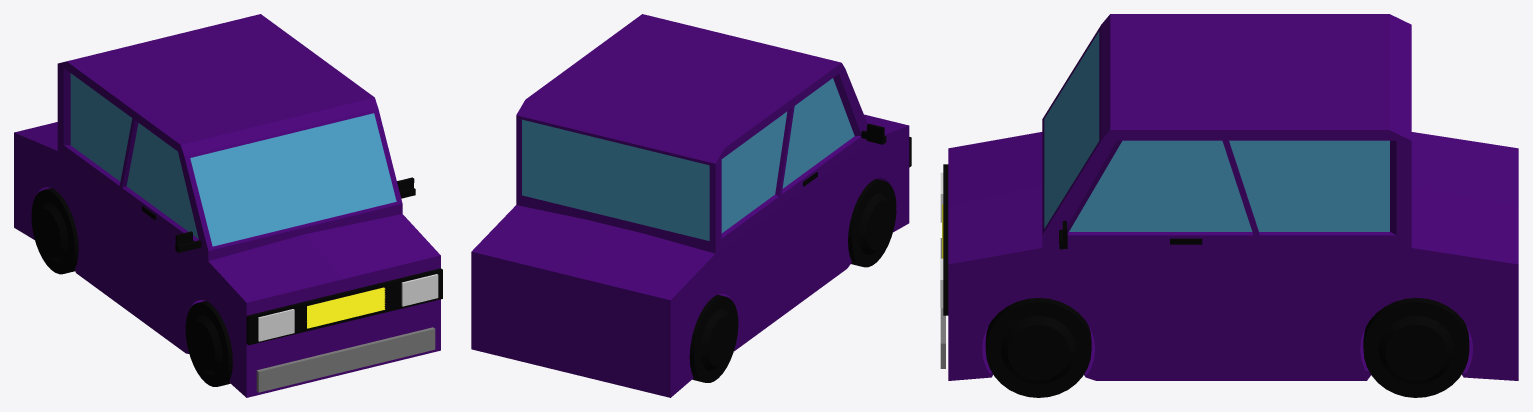
The model's file is NPCcar2_purple.fbx.
The picture shows the model from 3 angles, left to right: view 1: azimuth 30°, elevation 25°; view 2: azimuth 150°, elevation 25°; view 3: azimuth 270°, elevation 25°; orthographic projection. The views are drawn at different scales.
Parts seen in each view (by area): view 1: car02_purple; view 2: car02_purple; view 3: car02_purple.
Part boxes in pixels (left/top/right/bottom): car02_purple: left=14, top=14, right=442, bottom=397; car02_purple: left=471, top=14, right=911, bottom=397; car02_purple: left=940, top=14, right=1518, bottom=397.
Bounding box in the file's own units: 55.39 × 48.56 × 95.57.
